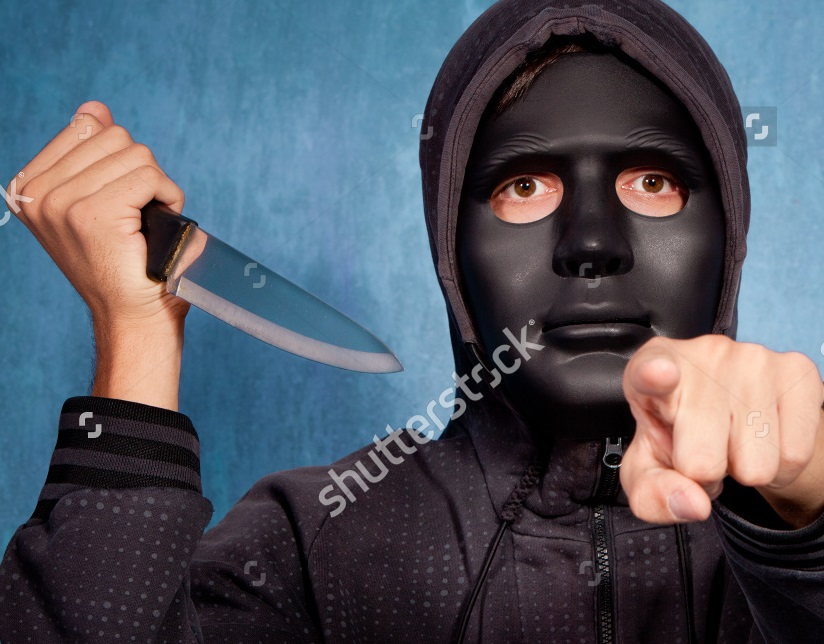knife: (61, 93, 415, 391)
